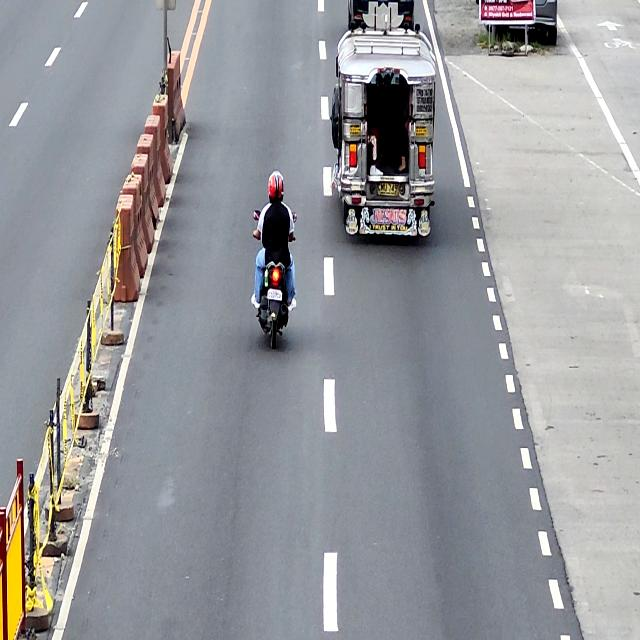Jeep: (332, 27, 437, 240)
License-Plate: (376, 181, 399, 198), (267, 287, 283, 302)
Motorcycle: (253, 208, 297, 350)
